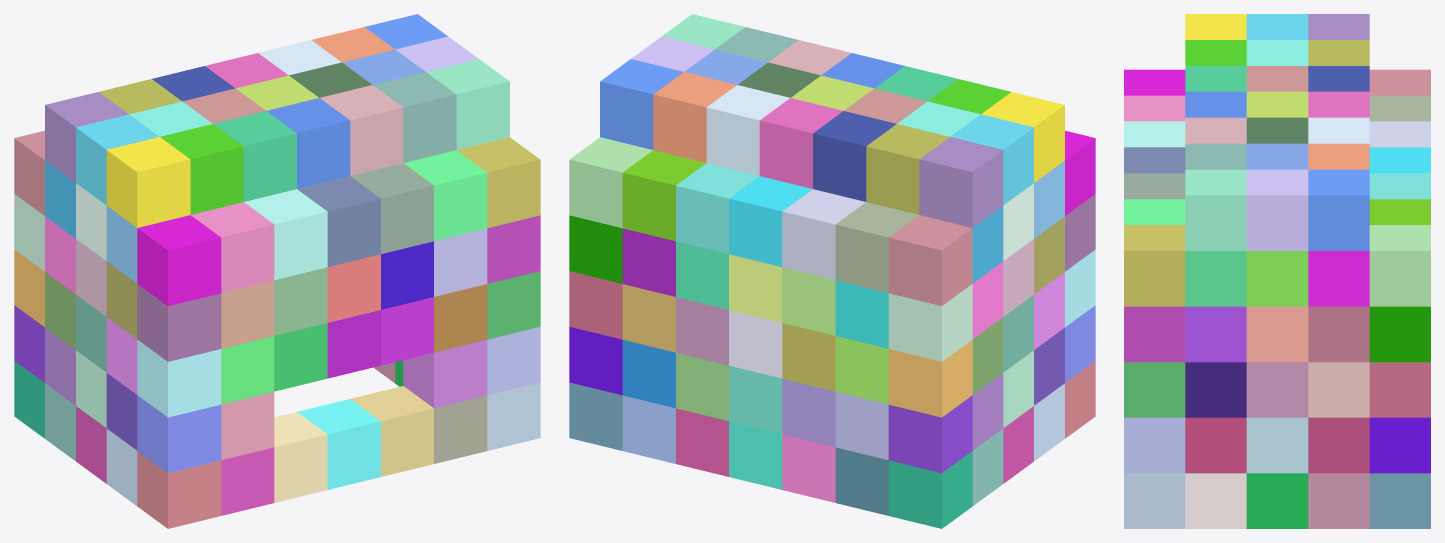
3 renders of one model, left to right at view 1: azimuth 30°, elevation 25°; view 2: azimuth 150°, elevation 25°; view 3: azimuth 270°, elevation 25°, orthographic.
Size of the model in its own units: 7 by 6 by 5.
